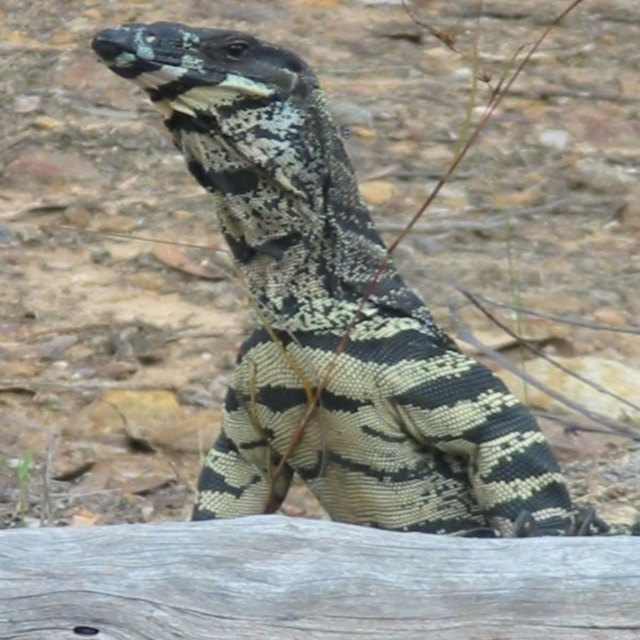Lizard: (91, 18, 609, 543)
